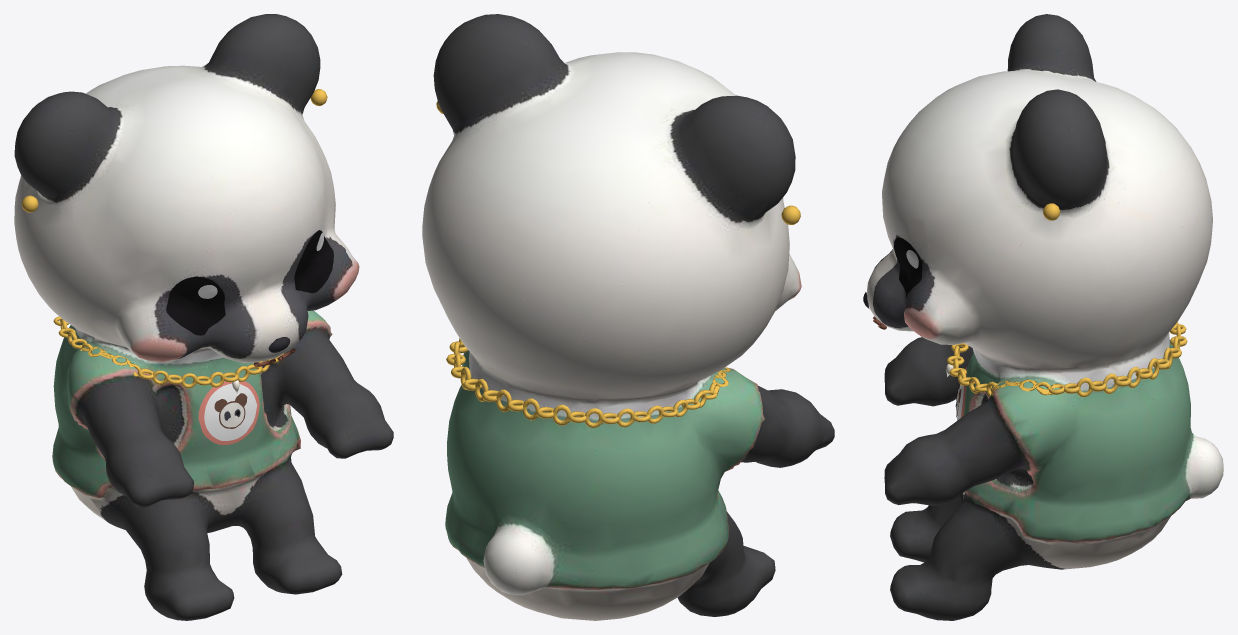
File: panda.glb
3 views of the same model, side by side, from view 1: azimuth 30°, elevation 25°; view 2: azimuth 150°, elevation 25°; view 3: azimuth 270°, elevation 25° (orthographic). The views are drawn at different scales.
Parts seen in each view (by area): view 1: chibi, face; view 2: chibi, face; view 3: chibi, face.
Part boxes in pixels (x1=…): chibi: x1=14, y1=14, x2=393, y2=620; face: x1=21, y1=89, x2=333, y2=444; chibi: x1=422, y1=14, x2=834, y2=620; face: x1=436, y1=101, x2=800, y2=427; chibi: x1=867, y1=14, x2=1223, y2=620; face: x1=863, y1=203, x2=1187, y2=420.
Bounding box in the file's own units: 0.746 × 1.2 × 0.7355.
16 materials, 1 textured.
